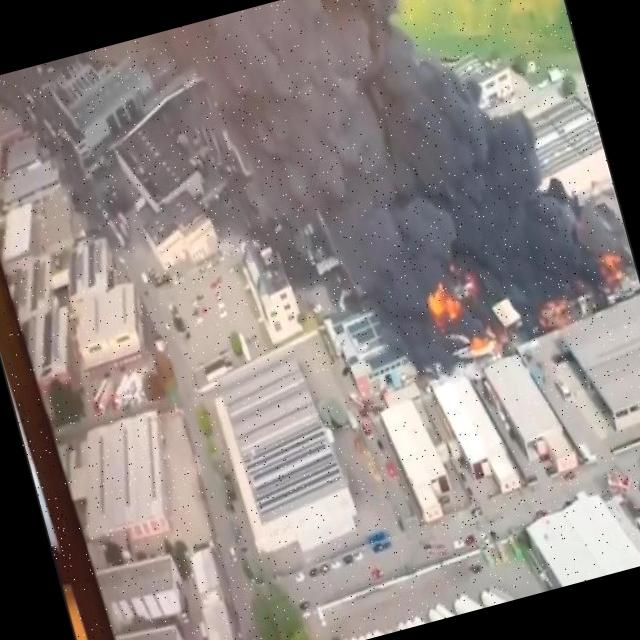Smoke: (142, 0, 572, 333)
